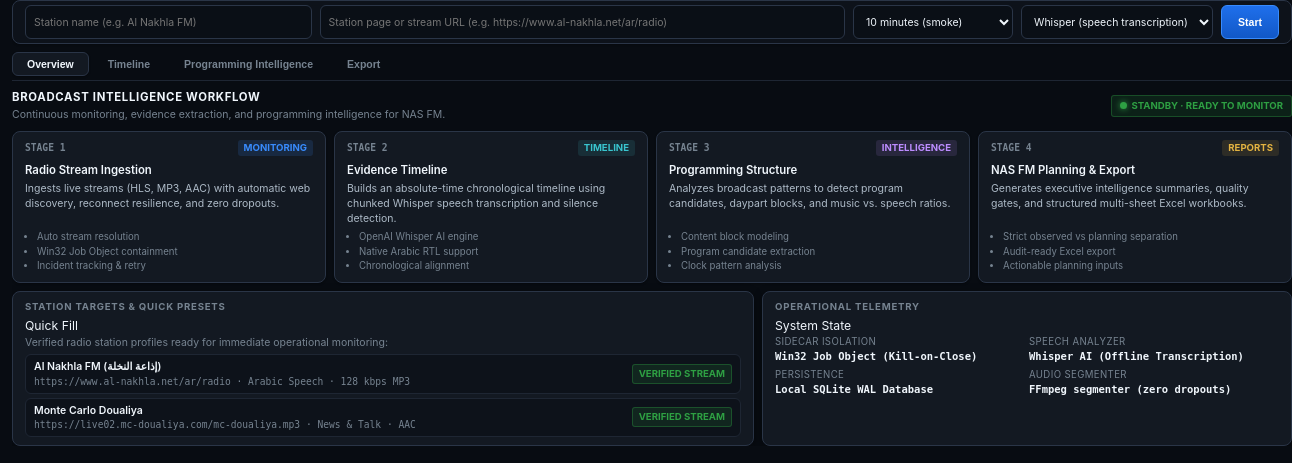
Test case: AgentPanel start flow › validates that a station and a source are both required
What coordinates should you click on to do the following:
click the button "Start"
I would click on:
 (1250, 22)
Its box is [1221, 5, 1279, 39].
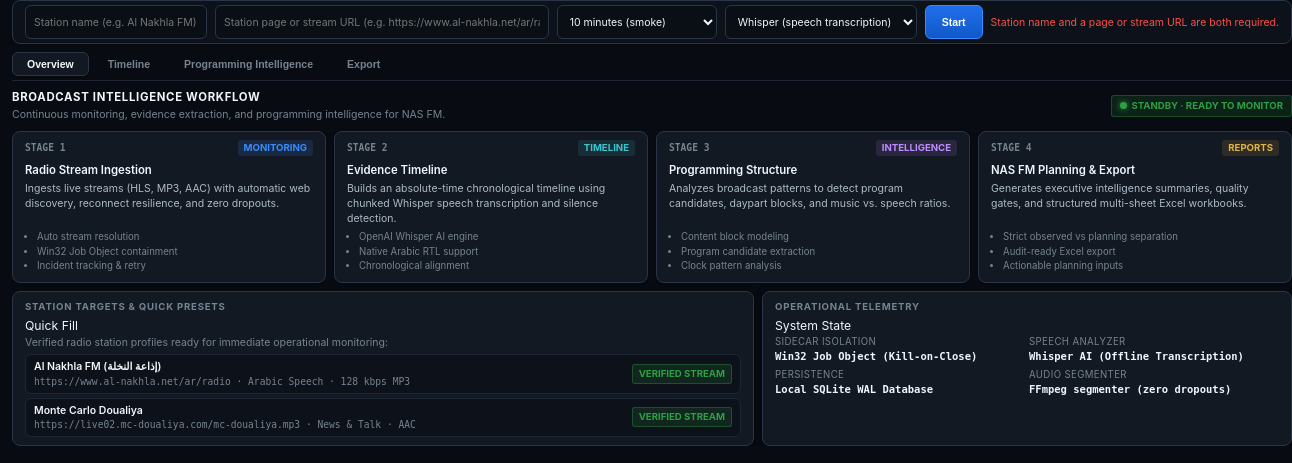
Expected: the message shows "both required", [991, 16, 1279, 29]
